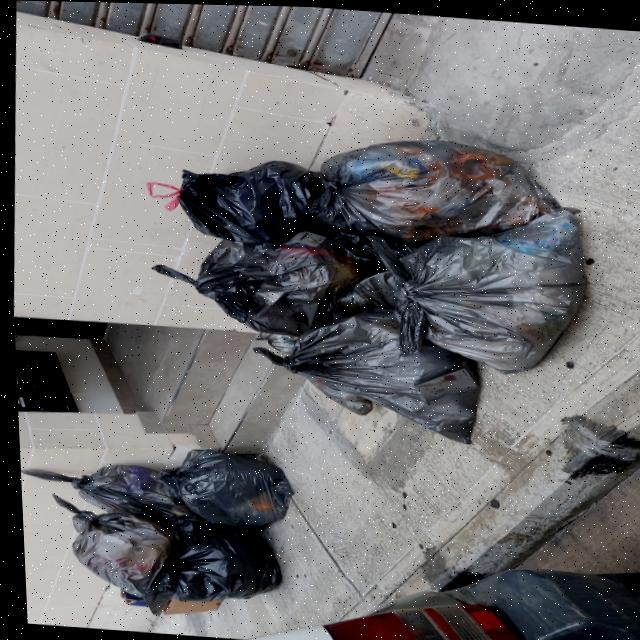Mixed Waste -Black Bag-: (380, 195, 592, 375), (309, 128, 554, 245), (274, 301, 481, 430), (178, 219, 398, 340), (178, 150, 327, 248), (156, 518, 283, 607), (167, 443, 292, 531), (66, 506, 175, 597), (69, 458, 176, 519)
